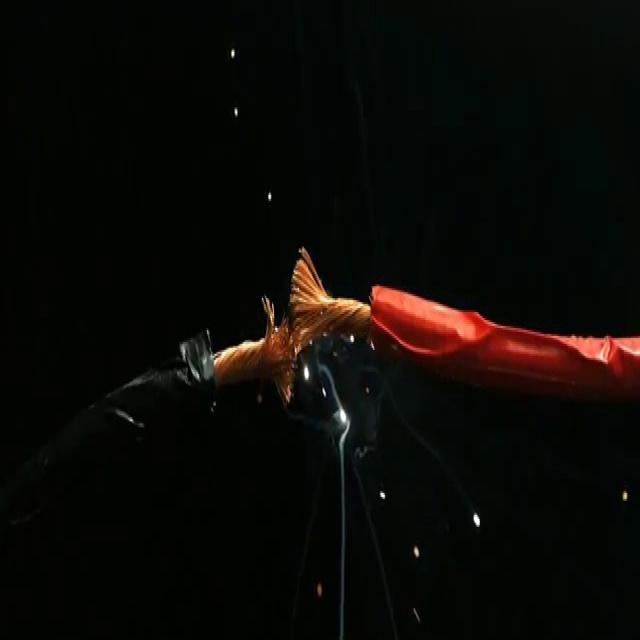fire: (266, 334, 364, 430)
